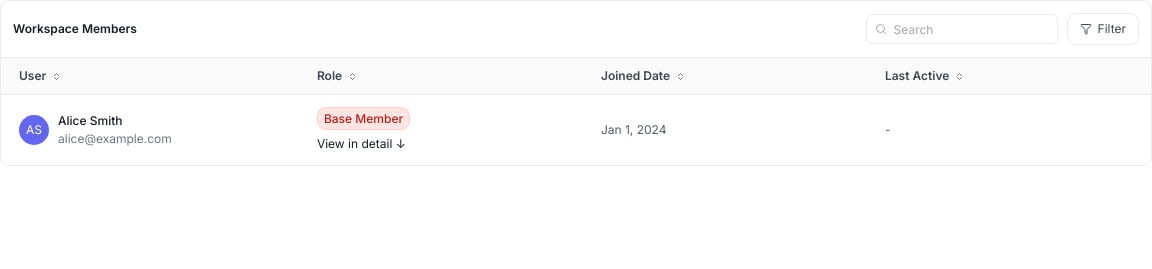
MembersTable › Role Filter › clears role filter when Clear filter is clicked
The image size is (1152, 269).
Step 1. Click the button "Filter" → (1103, 29), box [1067,13,1139,45]
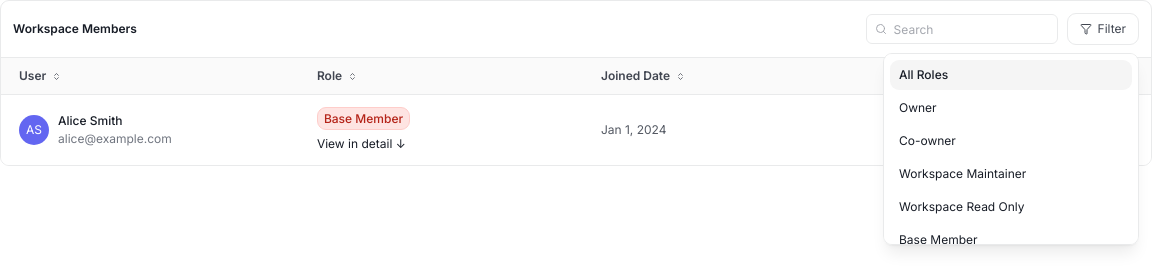
Step 2. Click the button "Owner" → (1011, 108), box [890,93,1132,123]
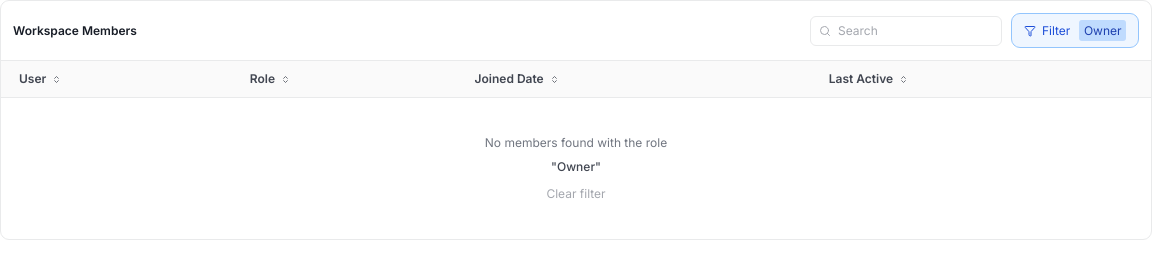
Expected: the text "No members found with the role" is shown, [485,134,667,152]
Step 3. Click the button "Clear filter" → (576, 194), box [546,185,606,203]
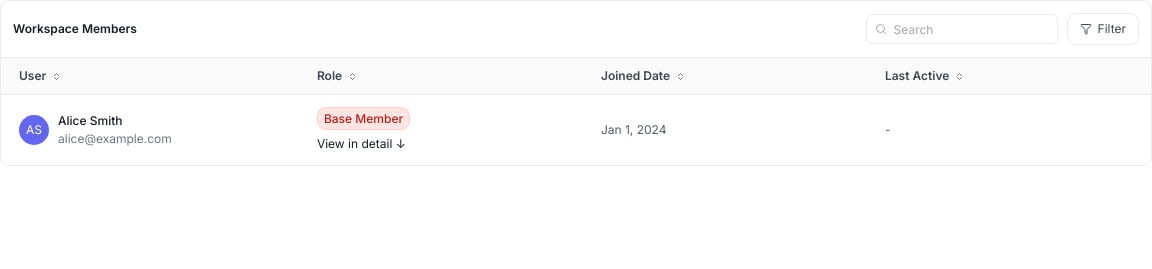
Expected: the text "Alice Smith" is shown, [58,113,122,128]
